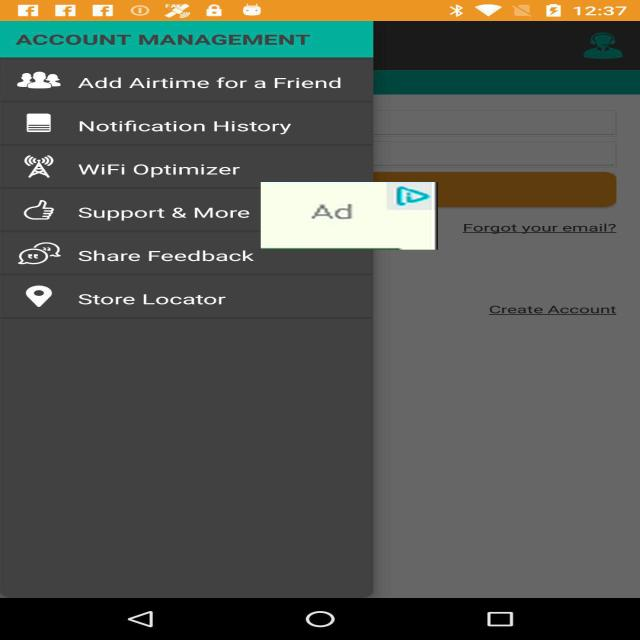sneaking: (261, 182, 438, 250)
